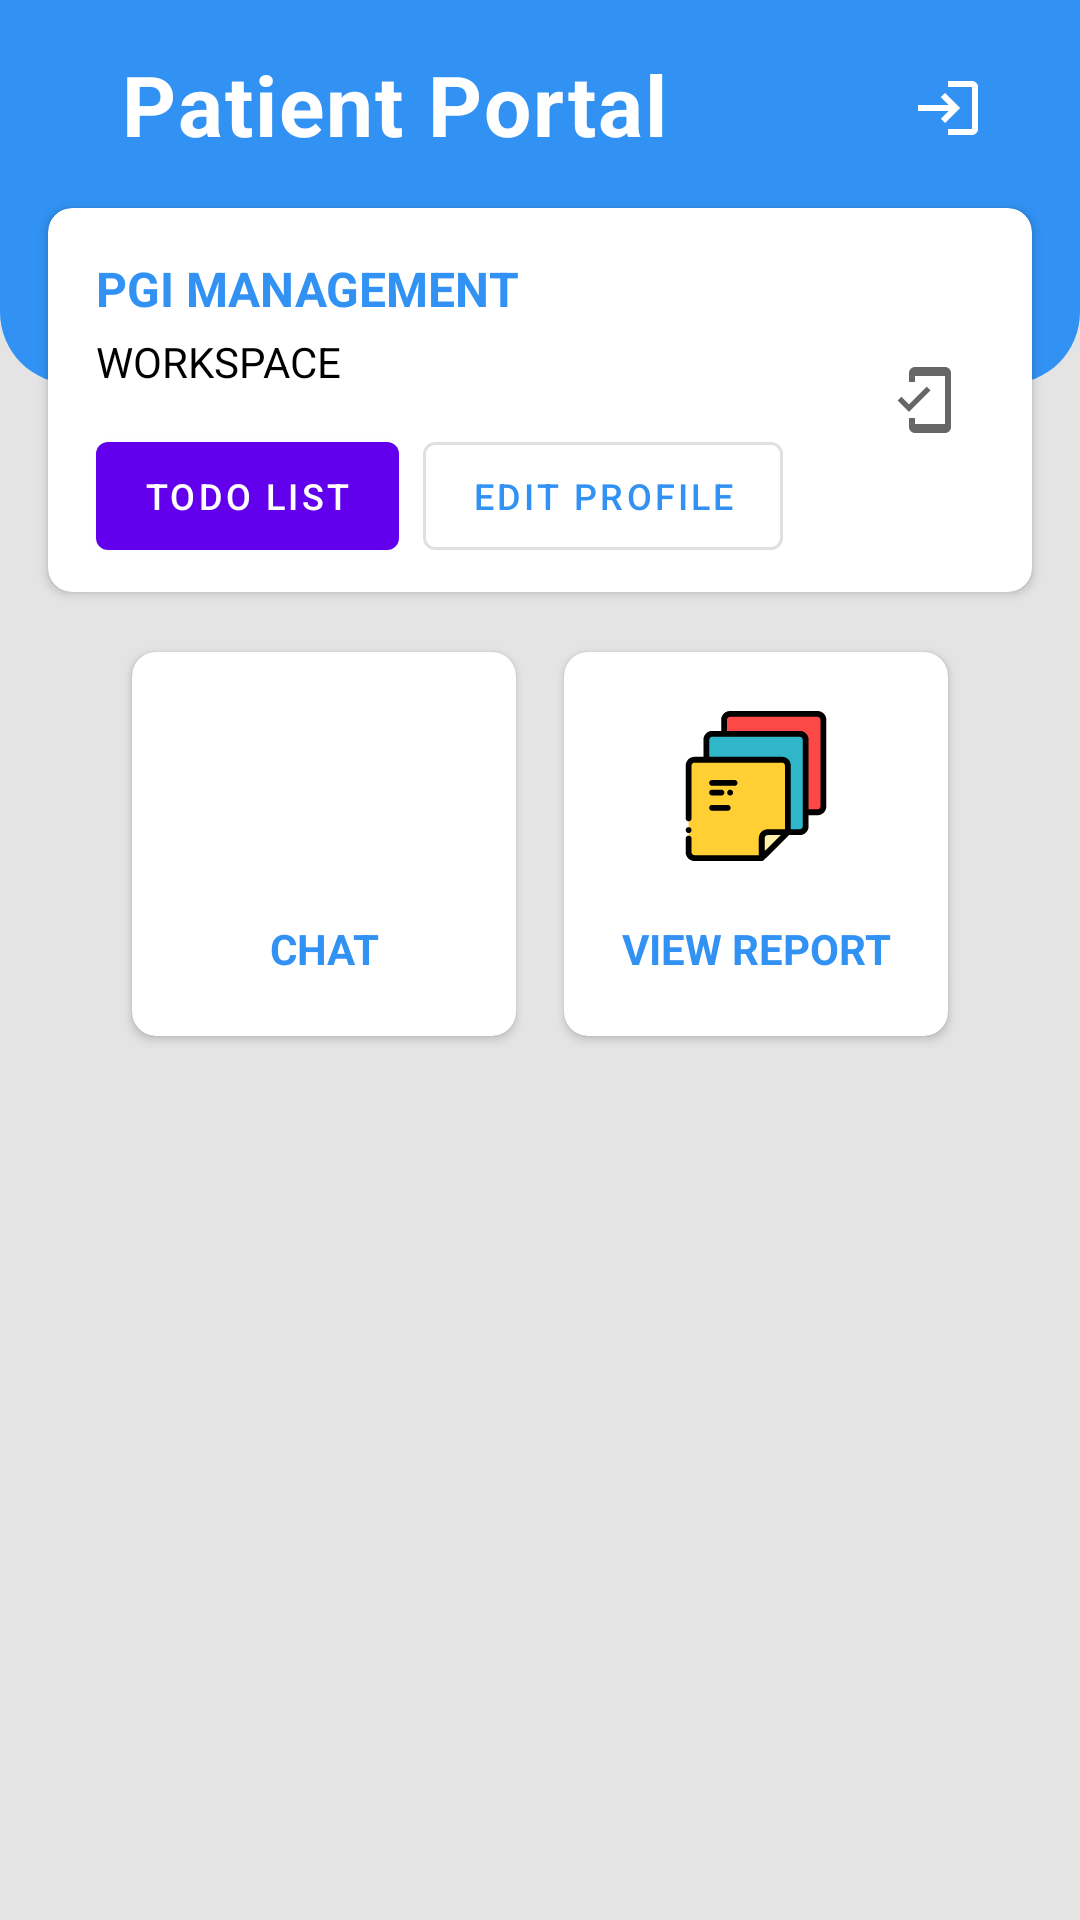

Icon click points for this 1080w x 1920h phone screenshot, format (x,y):
login: (948,108)
mobile: (924,400)
record: (756,786)
